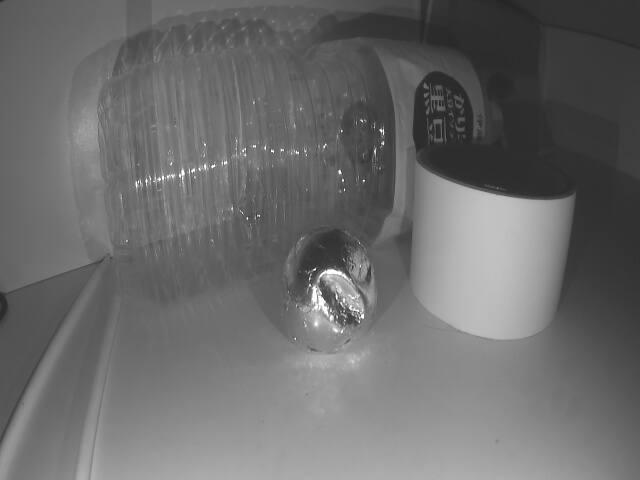Live: (284, 229, 377, 353)
